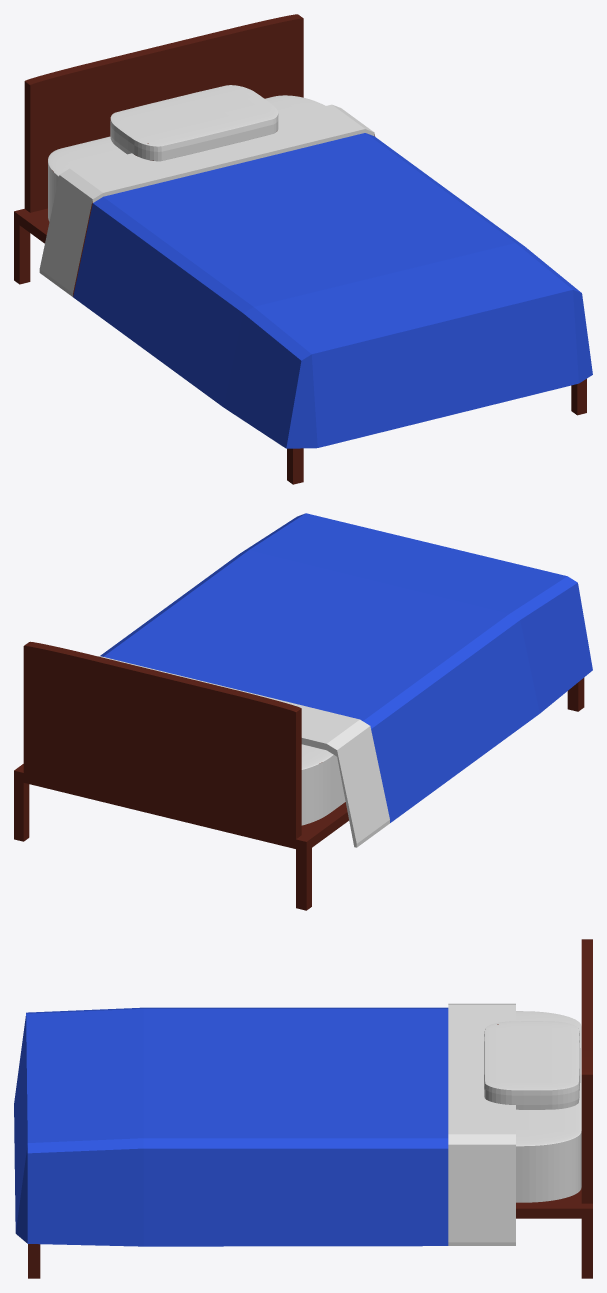
File: bed.fbx
The picture shows the model from 3 angles, top to bottom: view 1: azimuth 30°, elevation 25°; view 2: azimuth 150°, elevation 25°; view 3: azimuth 270°, elevation 25°; orthographic projection.
Parts seen in each view (by area): view 1: Cube; view 2: Cube; view 3: Cube.
Boxes of the visible parts, <box> form: Cube: <box>14,14,592,484</box>; Cube: <box>14,513,592,910</box>; Cube: <box>14,939,592,1278</box>.
Size of the model in its own units: 827 by 496 by 1294.
